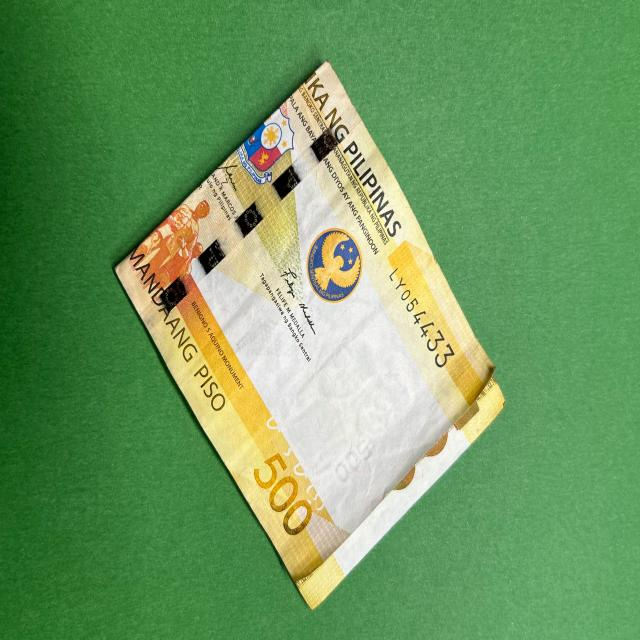security_thread: (135, 106, 367, 339)
see_through_mark: (263, 405, 339, 526)
serial_number: (383, 260, 470, 380)
value: (241, 443, 323, 547)
value_watermark: (330, 433, 384, 488)
